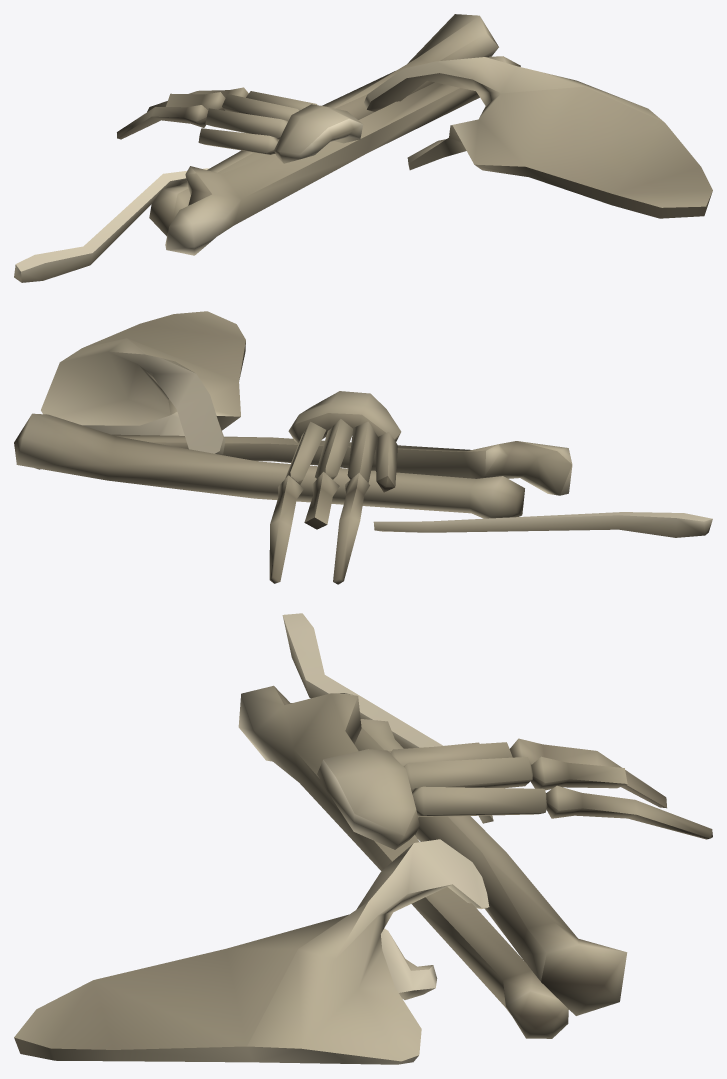
The model's file is Human_Remains_1C.fbx.
The picture shows the model from 3 angles, top to bottom: view 1: azimuth 30°, elevation 25°; view 2: azimuth 150°, elevation 25°; view 3: azimuth 270°, elevation 25°; orthographic projection. The views are drawn at different scales.
Parts seen in each view (by area): view 1: Human_Remains_1C; view 2: Human_Remains_1C; view 3: Human_Remains_1C.
Boxes of the visible parts, x1,y1,x2,y2 form: Human_Remains_1C: (14, 14, 712, 282); Human_Remains_1C: (14, 311, 712, 584); Human_Remains_1C: (14, 613, 712, 1064).
Bounding box in the file's own units: 51.04 × 8.24 × 34.35.
